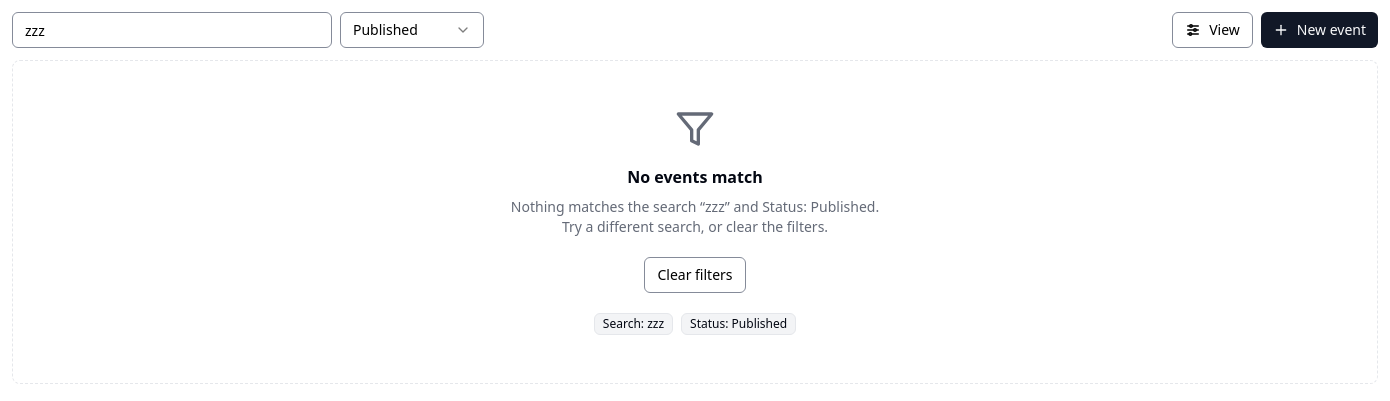
Test case: empty: nothing yet versus nothing matches › no results: names what narrows the list and clears search and filters
Check: the number of list items is 2, box [594,313,673,335]; [681,313,796,335]
Check: the text "Nothing matches the search “zzz” and Status: Published" is shown, box [511,197,879,236]
Click the button "Clear filters". click: point(695, 275)
box: [644,257,746,293]
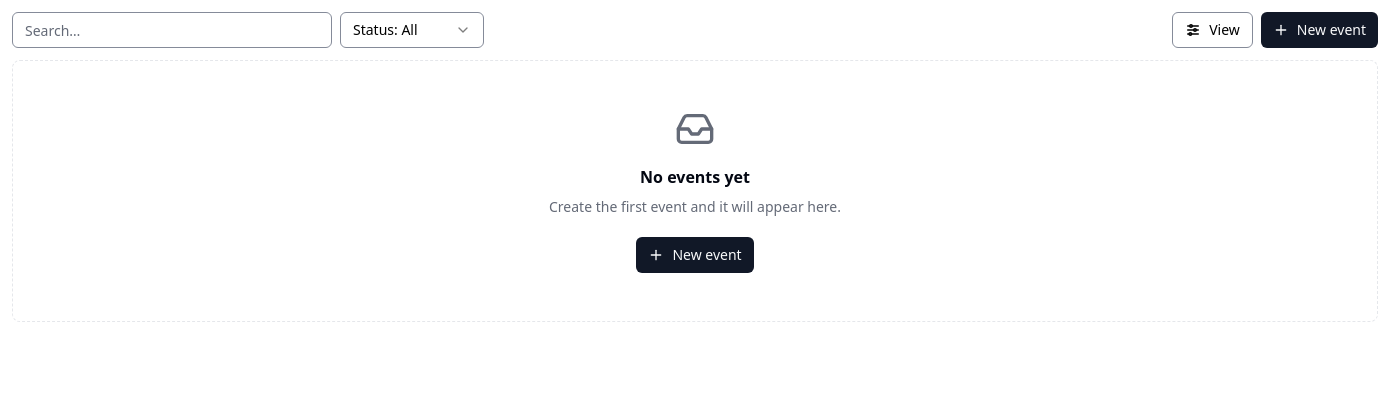
Check: the search field labelled "Search" is empty, box [12,12,332,48]
